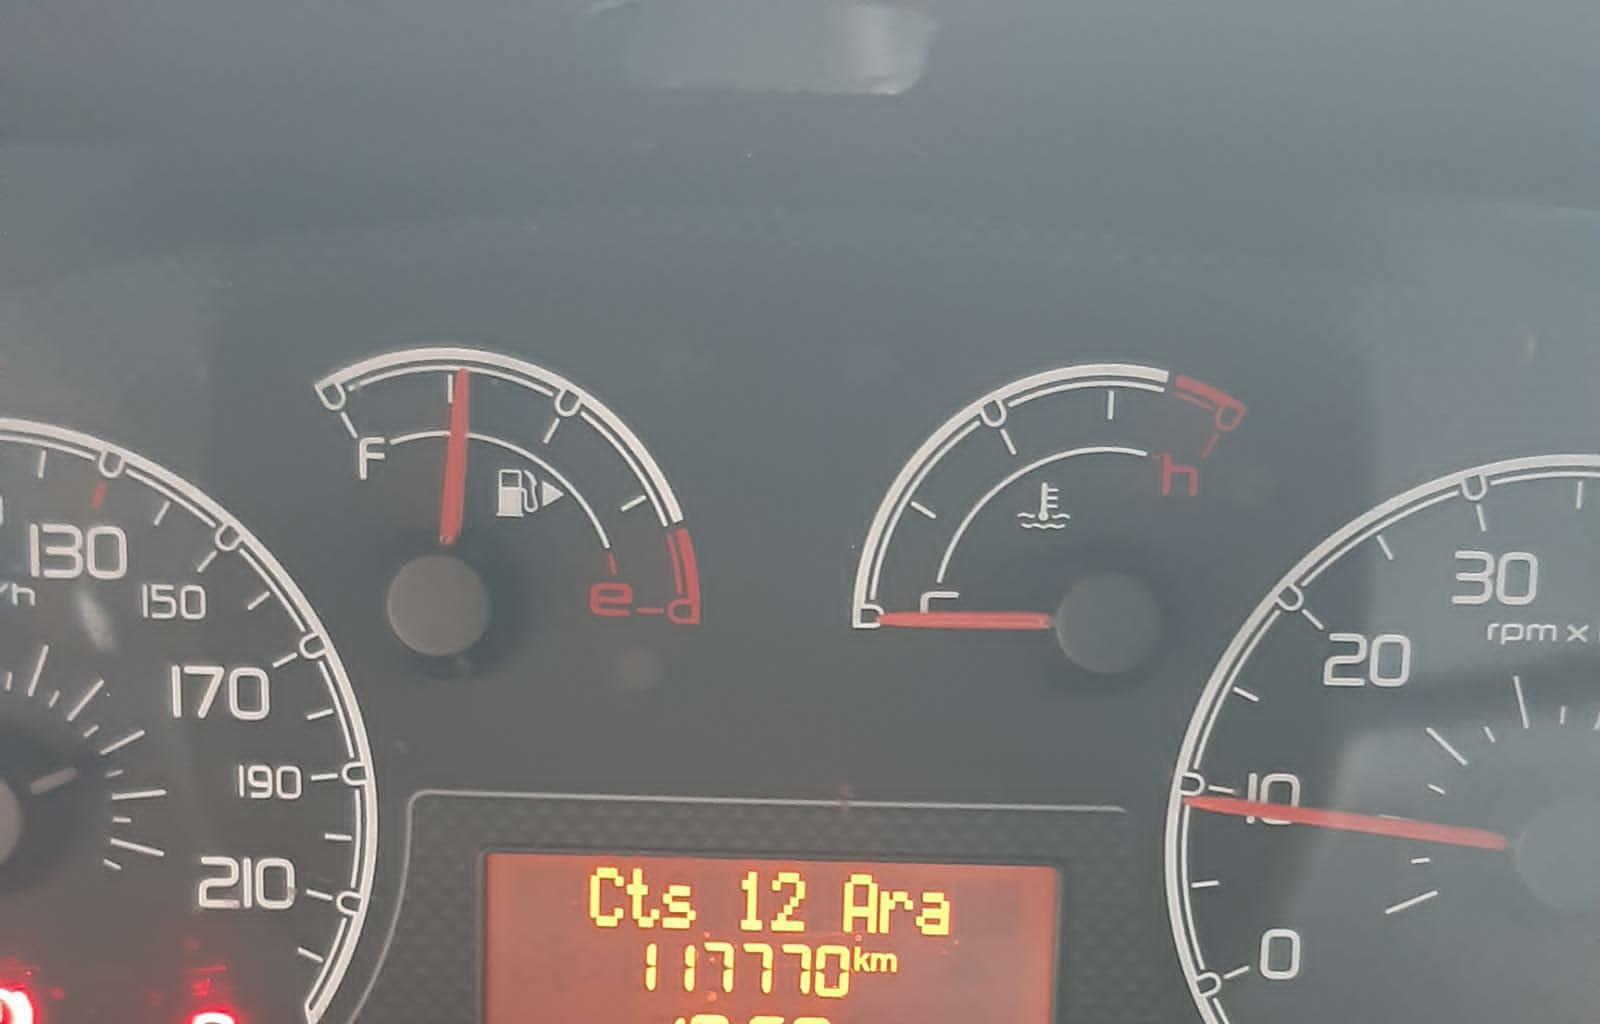0: (814, 941, 851, 1001)
1: (734, 868, 766, 933), (638, 937, 664, 995), (678, 939, 695, 996)
2: (767, 868, 808, 934)
7: (700, 937, 738, 996), (741, 937, 777, 997), (778, 939, 810, 1000)
X: (838, 868, 877, 937), (585, 862, 624, 930), (626, 864, 661, 930), (914, 888, 954, 939), (661, 879, 699, 932), (879, 888, 914, 937), (870, 948, 899, 975), (852, 941, 868, 974)
odometer: (464, 840, 1076, 1024)
